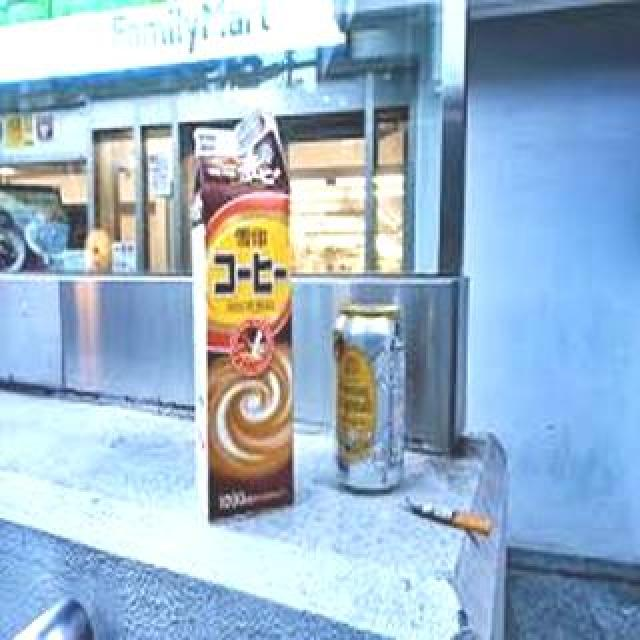Can: (330, 299, 414, 493)
